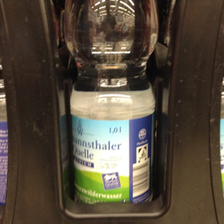water: (64, 1, 157, 208)
